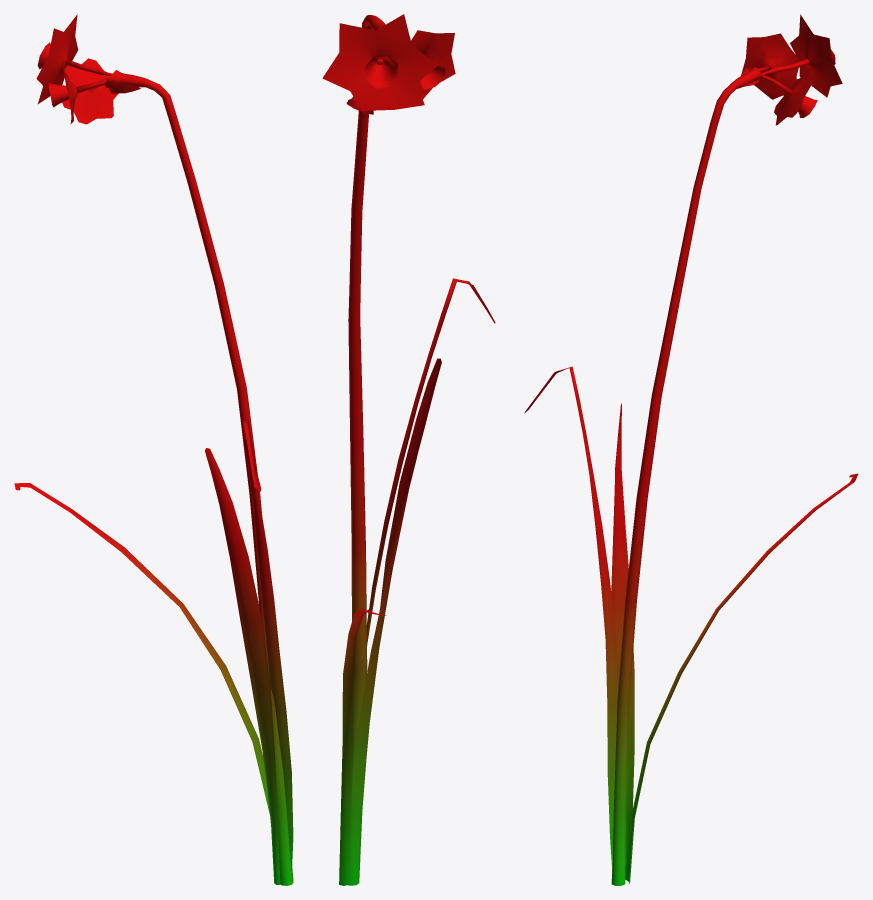
The model's file is Rush Daffodil_LOD1_Var9_wftgfjaia.fbx.
The picture shows the model from 3 angles, left to right: view 1: azimuth 30°, elevation 25°; view 2: azimuth 150°, elevation 25°; view 3: azimuth 270°, elevation 25°; orthographic projection. The views are drawn at different scales.
Parts seen in each view (by area): view 1: _68g5_var9_LOD1; view 2: _68g5_var9_LOD1; view 3: _68g5_var9_LOD1.
Boxes of the visible parts, x1,y1,x2,y2 form: _68g5_var9_LOD1: [14, 14, 293, 885]; _68g5_var9_LOD1: [322, 14, 495, 885]; _68g5_var9_LOD1: [524, 14, 858, 885].
Bounding box in the file's own units: 7.25 × 33.83 × 12.76.
